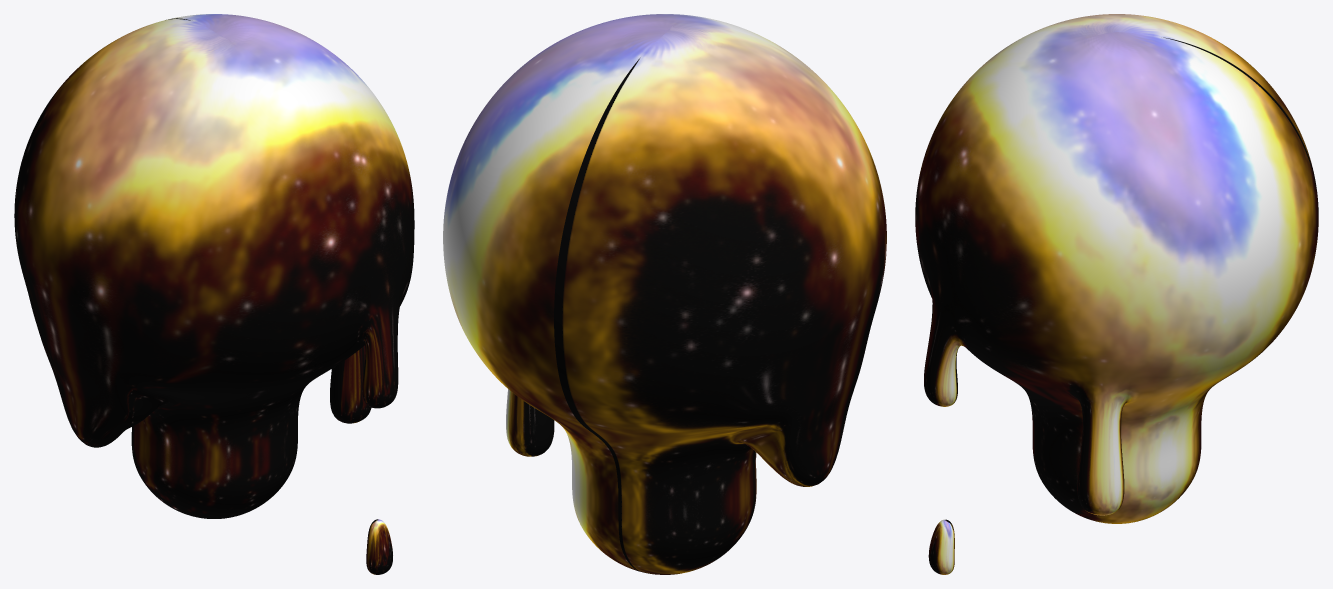
Rendered from PM_Baked_Idea_4-21-20_05.gltf.
The picture shows the model from 3 angles, left to right: view 1: azimuth 30°, elevation 25°; view 2: azimuth 150°, elevation 25°; view 3: azimuth 270°, elevation 25°; orthographic projection. The views are drawn at different scales.
Visible parts, largest first — view 1: Idea; view 2: Idea; view 3: Idea.
Part boxes in pixels (x1,y1,x2,y2): Idea: (14, 14, 414, 574); Idea: (443, 14, 886, 574); Idea: (915, 14, 1318, 574).
Bounding box in the file's own units: 1.5 × 2.06 × 1.5.
Materials: 1 (1 with a texture image).
